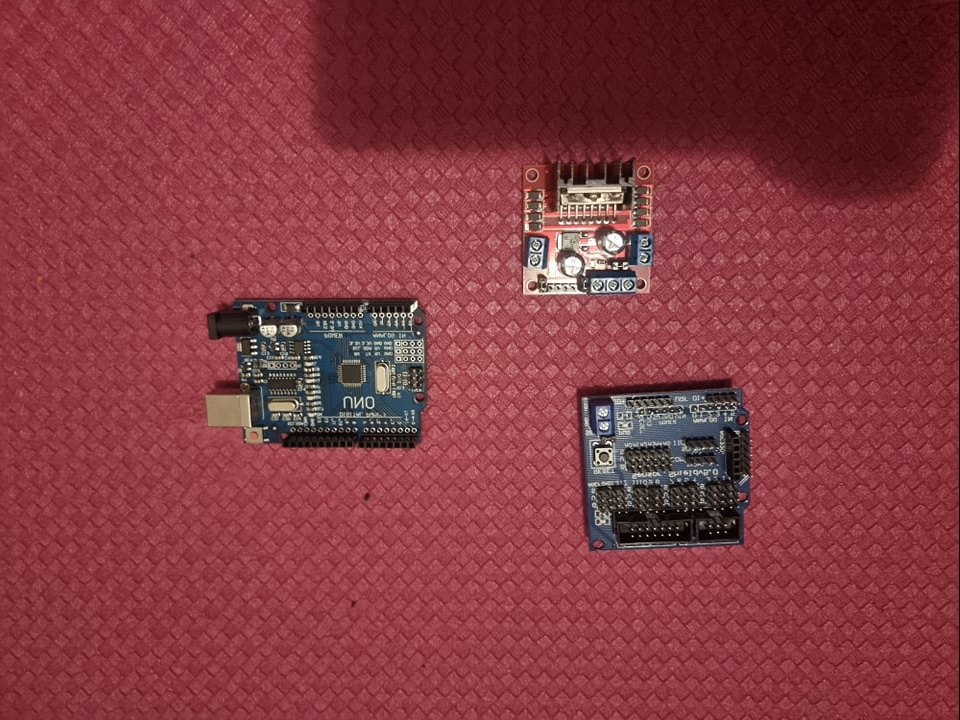5V EXPANSION: (578, 382, 755, 548)
MOTOR: (519, 158, 657, 292)
UNO R3: (202, 295, 431, 454)
